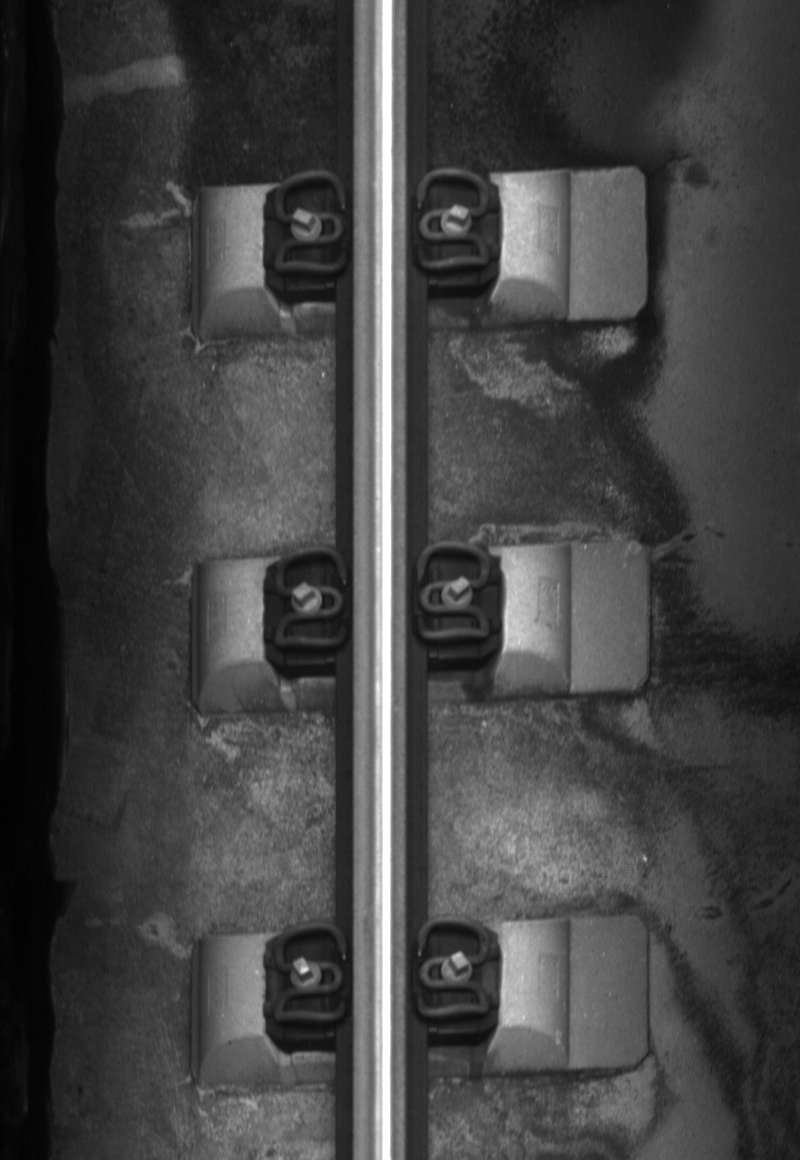l_faster: (267, 540, 352, 657), (269, 165, 351, 284), (269, 919, 352, 1030)
r_faster: (409, 534, 494, 651), (409, 160, 494, 276), (412, 914, 492, 1023)
